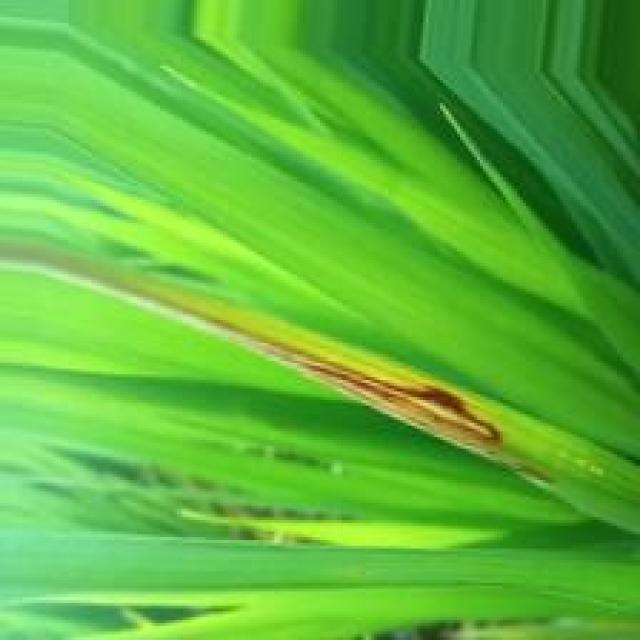Leaf_Blast: (100, 261, 517, 469)
